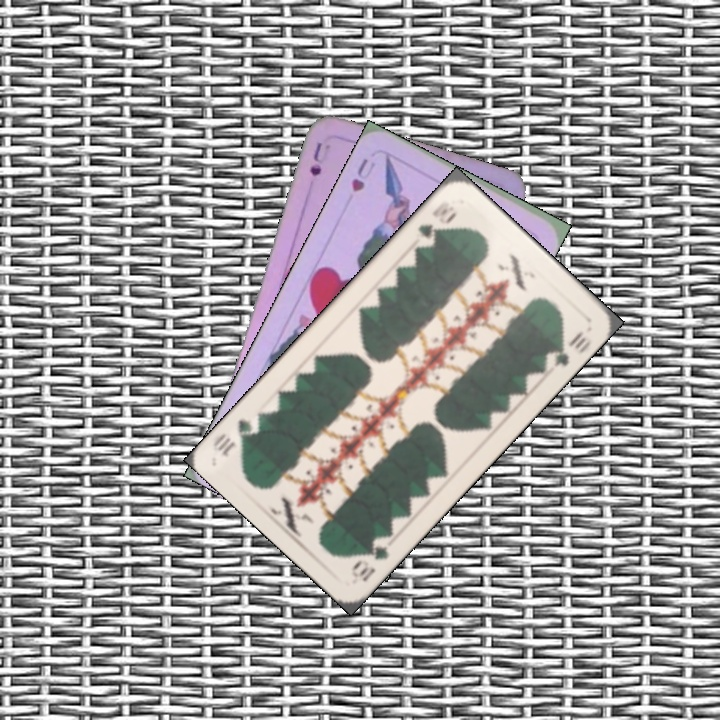G10: (347, 537, 395, 584), (413, 197, 457, 242)
HU: (347, 154, 378, 195)
SU: (305, 138, 334, 179)
